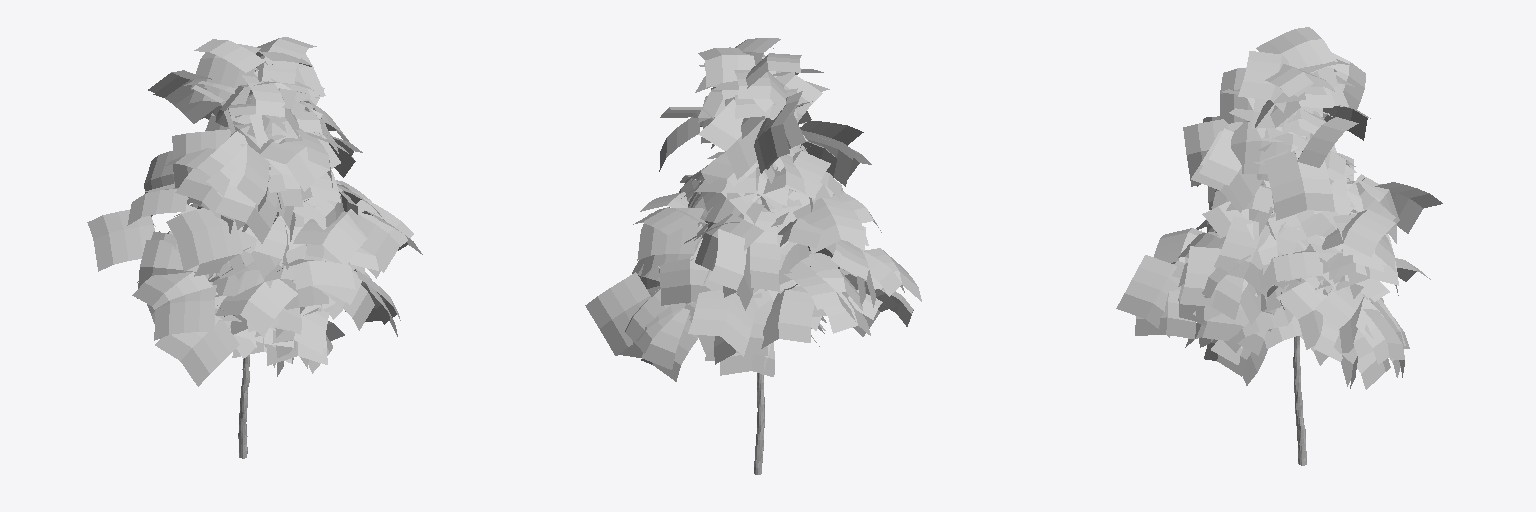
Rendered from mountain_trees6.obj.
3 renders of one model, left to right at view 1: azimuth 30°, elevation 25°; view 2: azimuth 150°, elevation 25°; view 3: azimuth 270°, elevation 25°, orthographic.
Parts seen in each view (by area): view 1: foliage.003, structure.003; view 2: foliage.003, structure.003; view 3: foliage.003, structure.003.
Part boxes in pixels (x1,y1,x2,y2): foliage.003: (87, 37, 422, 386); structure.003: (153, 64, 374, 458); foliage.003: (585, 38, 921, 381); structure.003: (655, 48, 810, 474); foliage.003: (1116, 27, 1442, 389); structure.003: (1201, 153, 1372, 465).
Size of the model in its own units: 19.43 by 30.29 by 21.55.